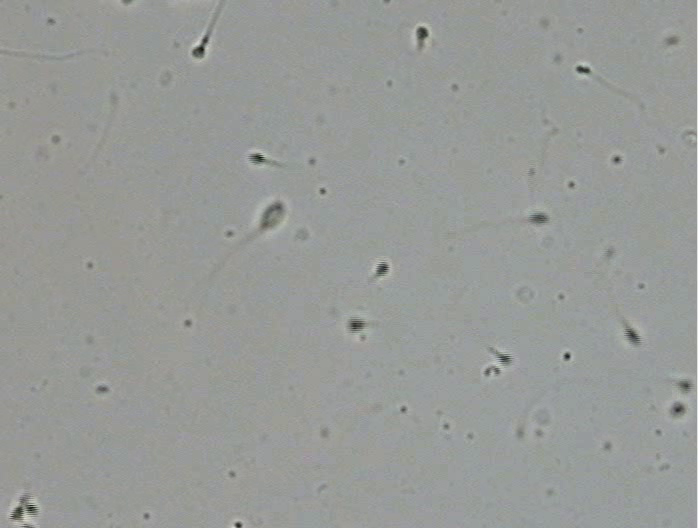S: (260, 202, 287, 229), (624, 327, 641, 346), (347, 317, 366, 333), (529, 212, 549, 226), (375, 260, 389, 277), (248, 153, 267, 165), (9, 506, 24, 521), (25, 503, 40, 518), (670, 403, 685, 417), (497, 352, 512, 365), (416, 26, 429, 40), (192, 45, 205, 58), (575, 65, 591, 75), (678, 380, 692, 391), (20, 523, 37, 528)
